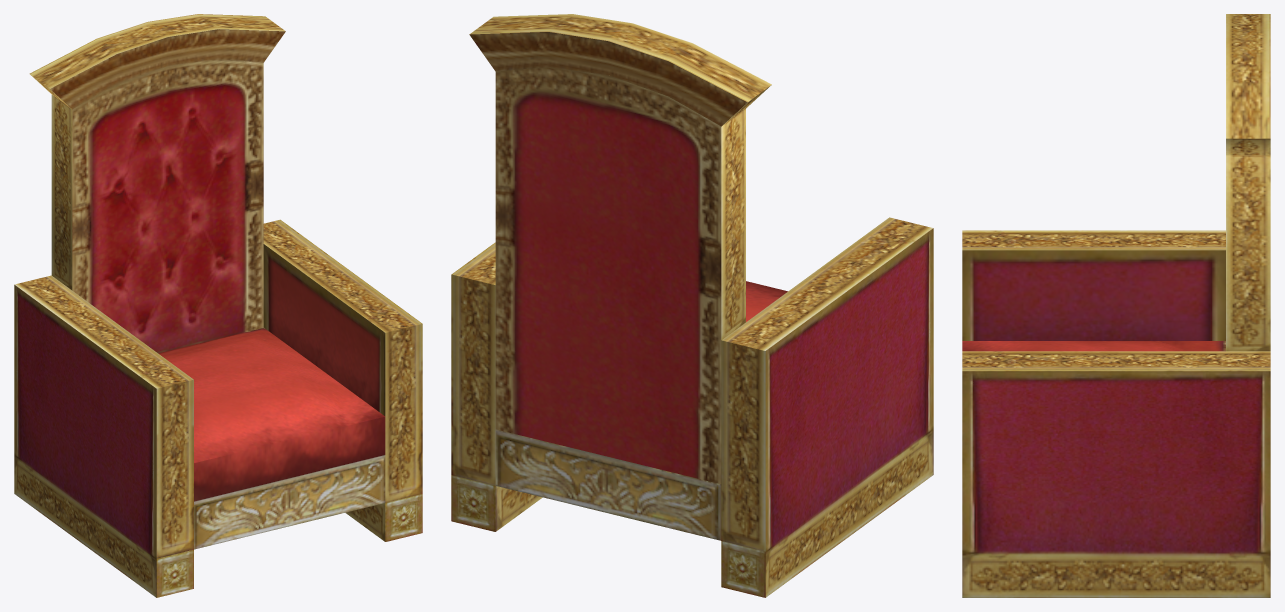
Rendered from chair.fbx.
3 renders of one model, left to right at view 1: azimuth 30°, elevation 25°; view 2: azimuth 150°, elevation 25°; view 3: azimuth 270°, elevation 25°, orthographic. The views are drawn at different scales.
Visible parts, largest first — view 1: chair; view 2: chair; view 3: chair.
Part boxes in pixels (left/top/right/bottom): chair: left=14, top=14, right=422, bottom=597; chair: left=451, top=14, right=933, bottom=597; chair: left=962, top=14, right=1270, bottom=597.
Bounding box in the file's own units: 68.1 × 107 × 63.1.
